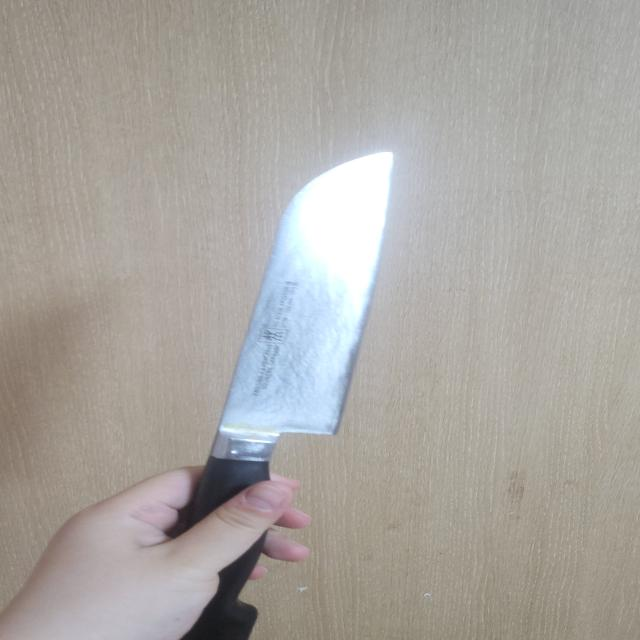knife: (171, 149, 395, 640)
